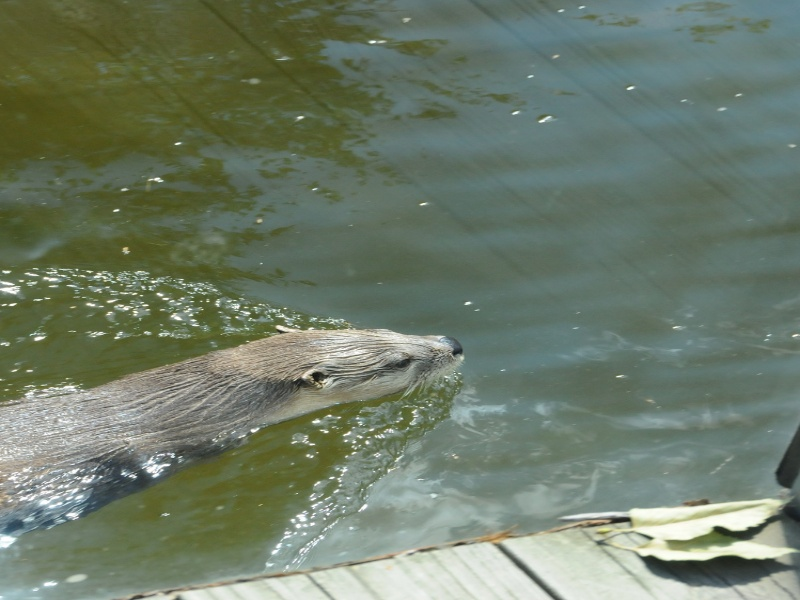minkish: (1, 312, 471, 542)
